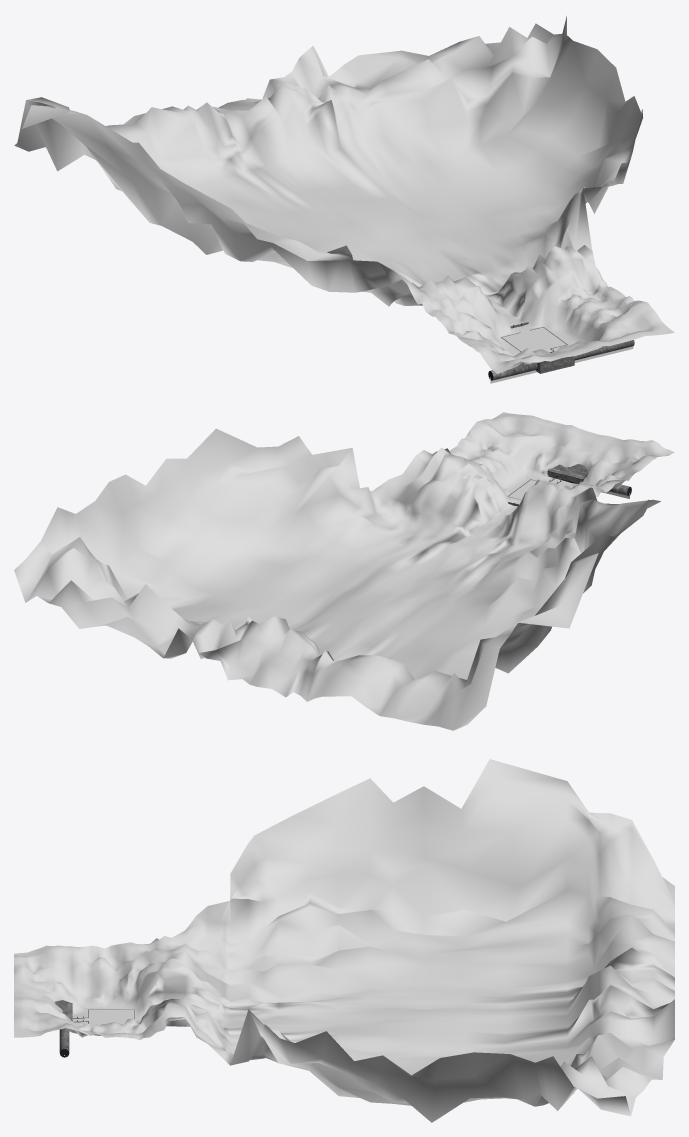
Rendered from MapMesh.fbx.
The picture shows the model from 3 angles, top to bottom: view 1: azimuth 30°, elevation 25°; view 2: azimuth 150°, elevation 25°; view 3: azimuth 270°, elevation 25°; orthographic projection. The views are drawn at different scales.
Parts seen in each view (by area): view 1: Landscape.003, Circle.001; view 2: Landscape.003, Cube.050; view 3: Landscape.003.
Part boxes in pixels (x1,y1,x2,y2): Landscape.003: (14,16,674,373); Circle.001: (488,340,634,380); Landscape.003: (14,412,674,730); Cube.050: (548,463,587,483); Landscape.003: (14,759,674,1122).
Bounding box in the file's own units: 1575 × 438 × 1738.
